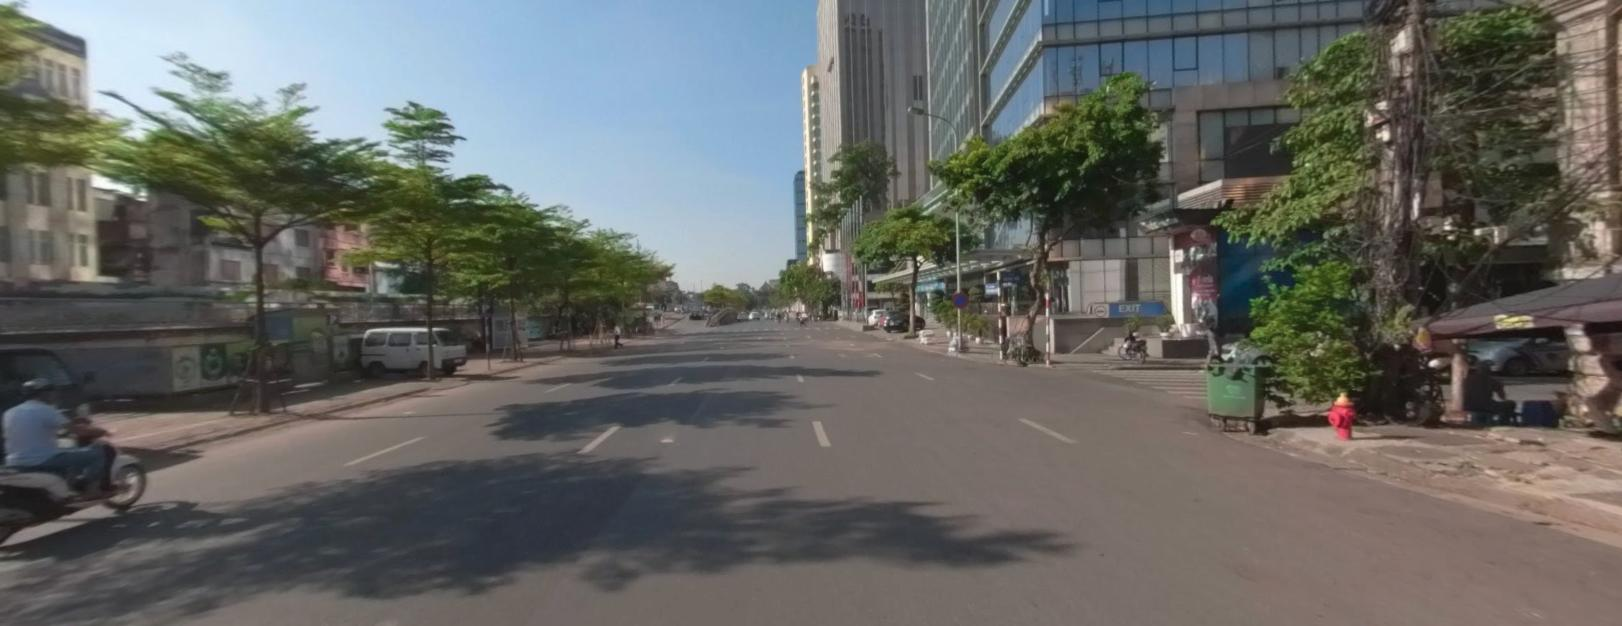Cam dung va do: (951, 290, 968, 307)
